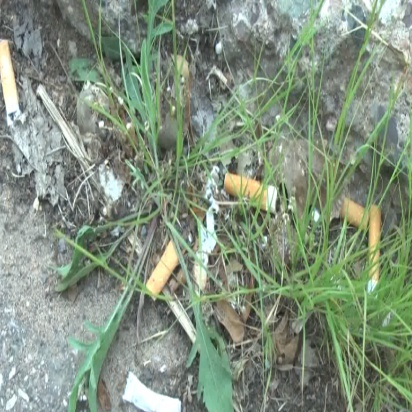cigarette: (220, 169, 282, 217), (118, 372, 183, 412), (142, 238, 183, 296), (1, 36, 27, 124), (366, 201, 381, 290), (339, 193, 370, 230)
